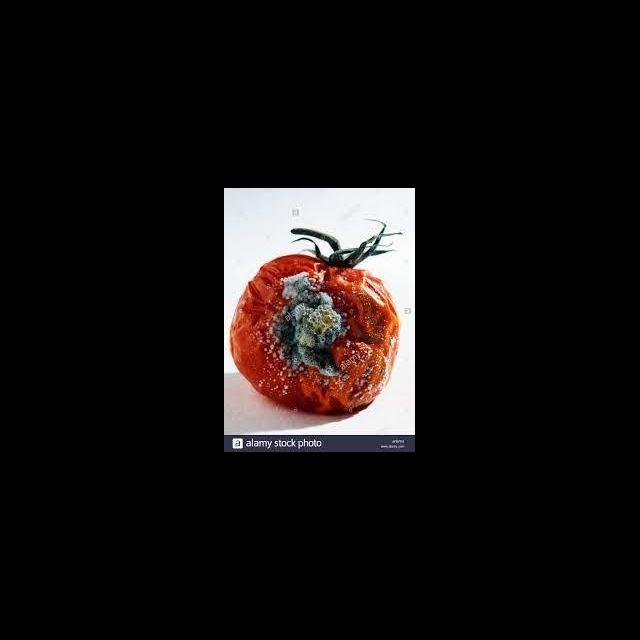tomato: (224, 205, 416, 433)
